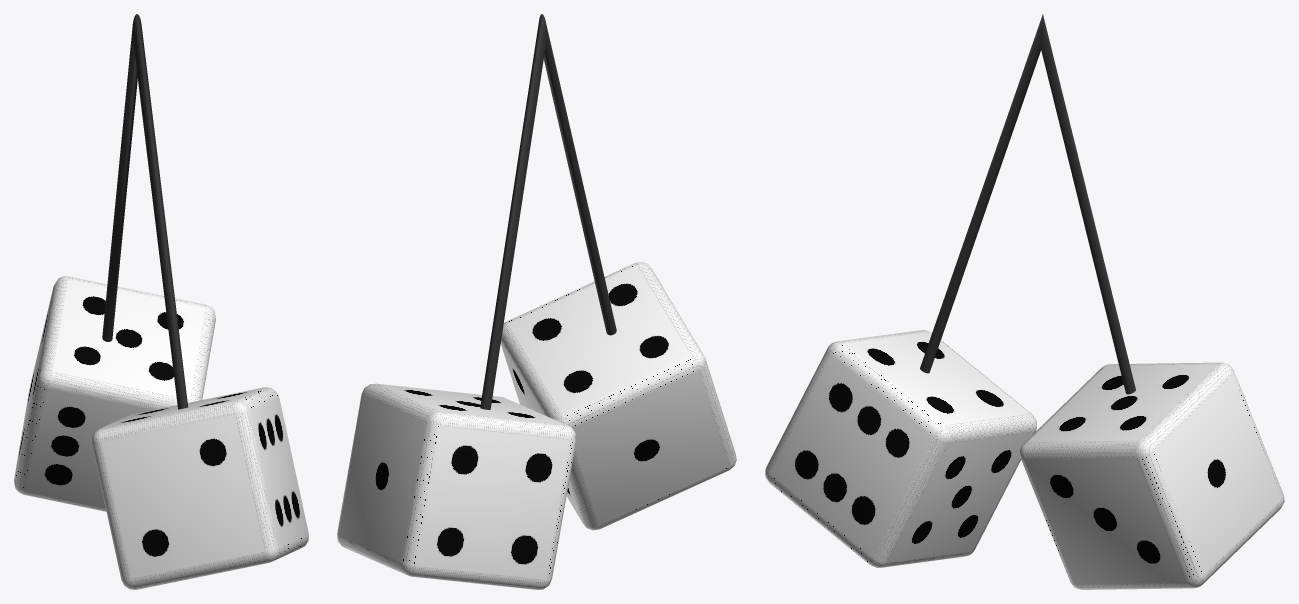
The model's file is Decor_mirror7_dice.fbx.
3 views of the same model, side by side, from view 1: azimuth 30°, elevation 25°; view 2: azimuth 150°, elevation 25°; view 3: azimuth 270°, elevation 25° (orthographic). The views are drawn at different scales.
Parts seen in each view (by area): view 1: instance_0.002; view 2: instance_0.002; view 3: instance_0.002.
Boxes of the visible parts, x1,y1,x2,y2 form: instance_0.002: (14,14,308,589); instance_0.002: (337,14,736,589); instance_0.002: (765,14,1284,589).
Bounding box in the file's own units: 1811 × 4048 × 3456.
